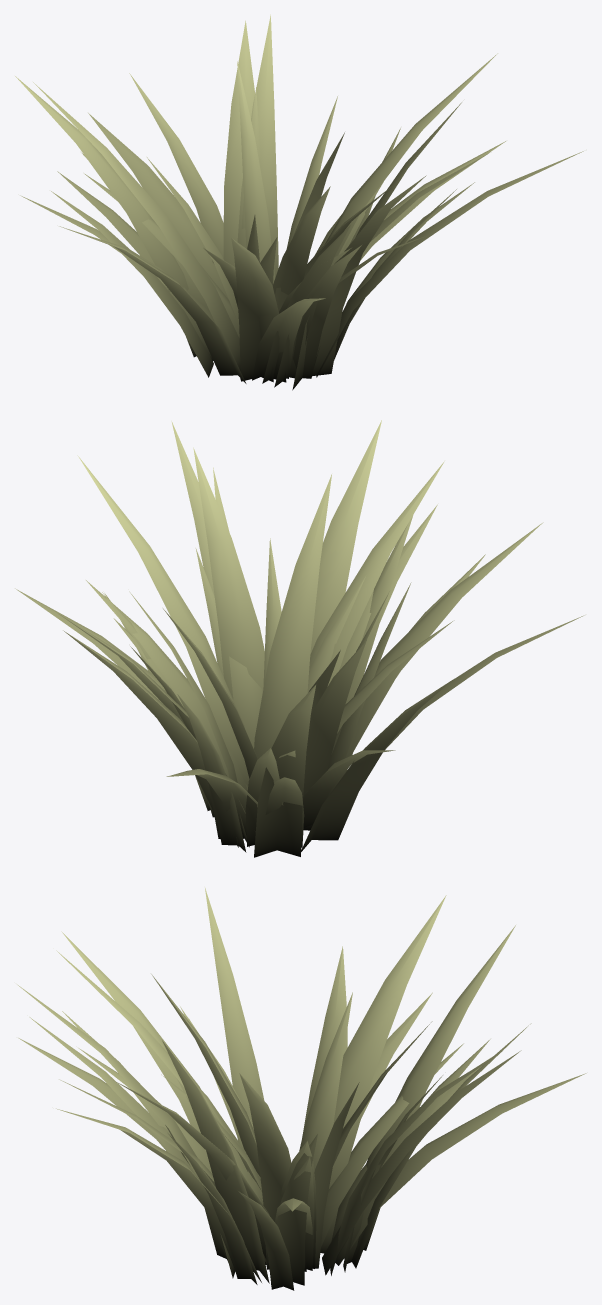
Rendered from SM_Veg_09_BeachGrass.fbx.
3 renders of one model, top to bottom at view 1: azimuth 30°, elevation 25°; view 2: azimuth 150°, elevation 25°; view 3: azimuth 270°, elevation 25°, orthographic. The views are drawn at different scales.
Parts seen in each view (by area): view 1: SM_Veg_09_BeachGrass; view 2: SM_Veg_09_BeachGrass; view 3: SM_Veg_09_BeachGrass.
Boxes of the visible parts, bbox=[...] form: SM_Veg_09_BeachGrass: bbox=[15, 14, 583, 390]; SM_Veg_09_BeachGrass: bbox=[15, 420, 584, 857]; SM_Veg_09_BeachGrass: bbox=[17, 888, 586, 1290].
Size of the model in its own units: 93.04 by 50 by 88.34.
